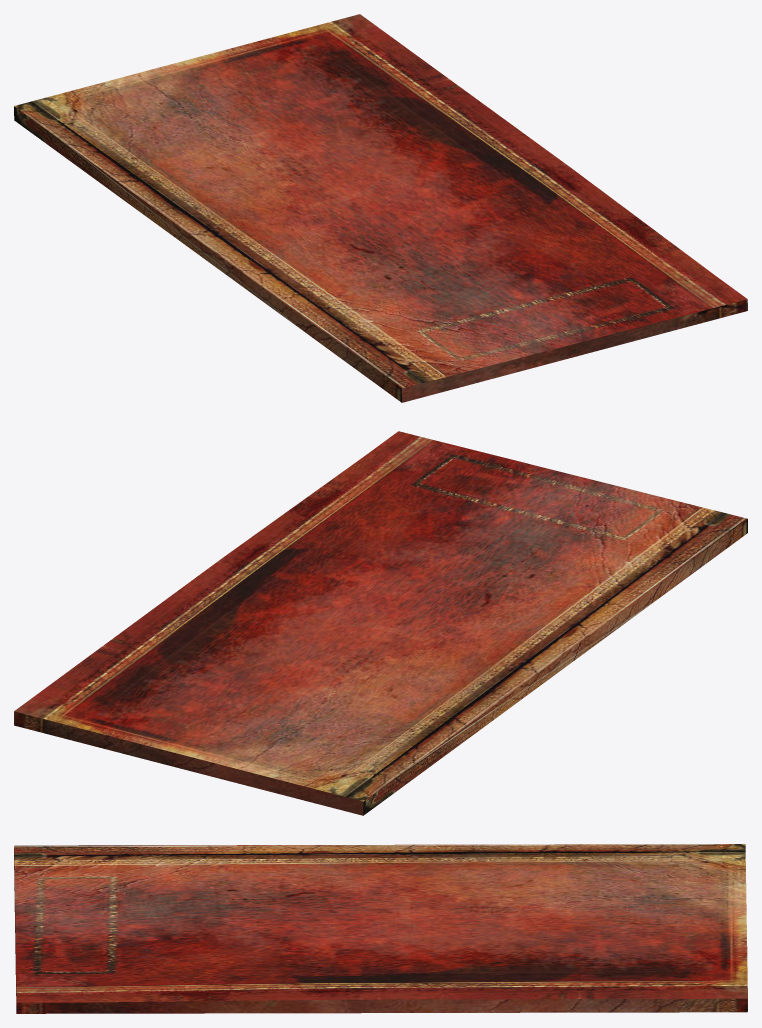
File: Book_Cover.fbx
3 renders of one model, top to bottom at view 1: azimuth 30°, elevation 25°; view 2: azimuth 150°, elevation 25°; view 3: azimuth 270°, elevation 25°, orthographic. The views are drawn at different scales.
Parts seen in each view (by area): view 1: polySurface3; view 2: polySurface3; view 3: polySurface3.
Part boxes in pixels (x1,y1,x2,y2): polySurface3: (14, 14, 747, 402); polySurface3: (14, 431, 747, 815); polySurface3: (14, 844, 747, 1013).
Size of the model in its own units: 1.3 by 0.0758 by 2.5.
Materials: 1 (1 with a texture image).
